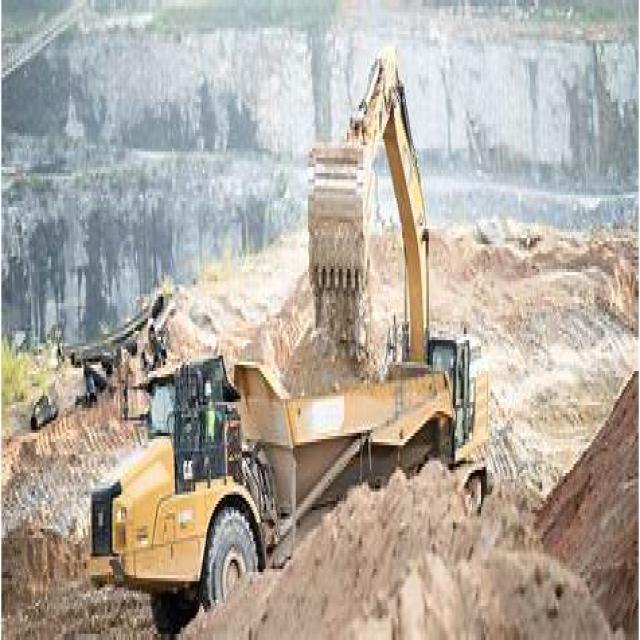dump_truck: (82, 343, 456, 606)
